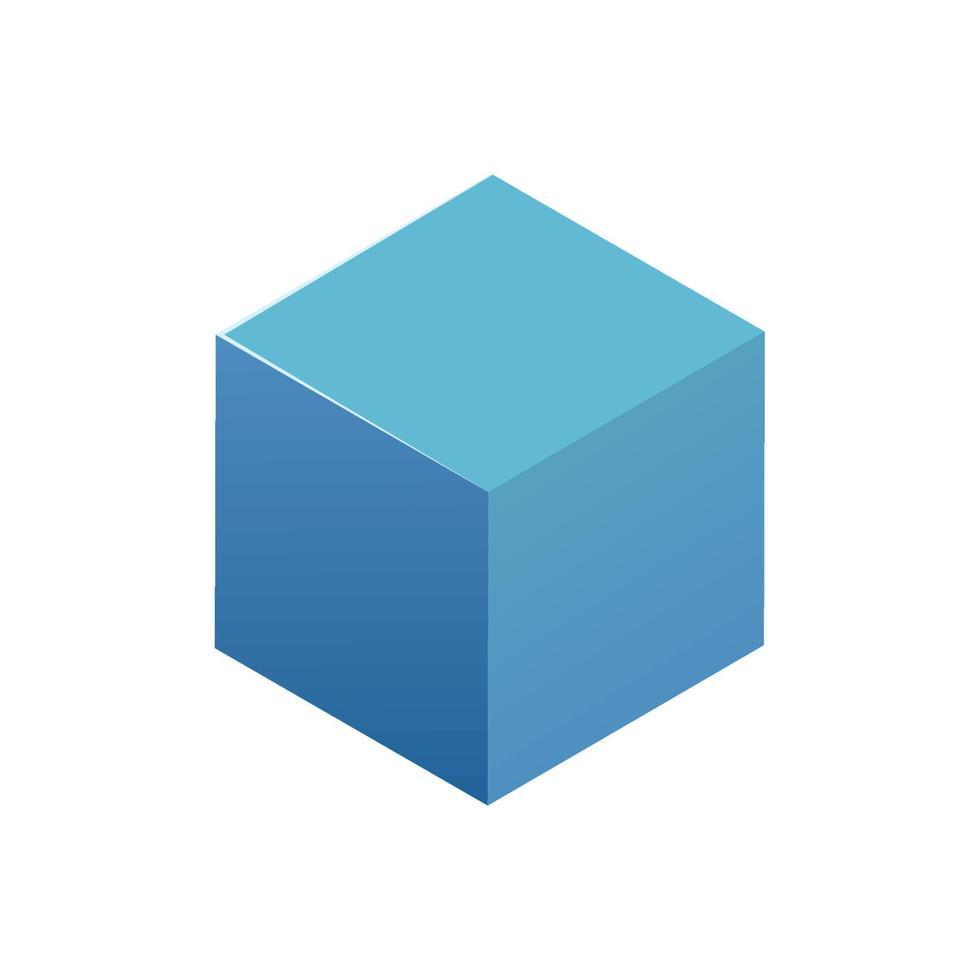cubos: (180, 158, 828, 830)
